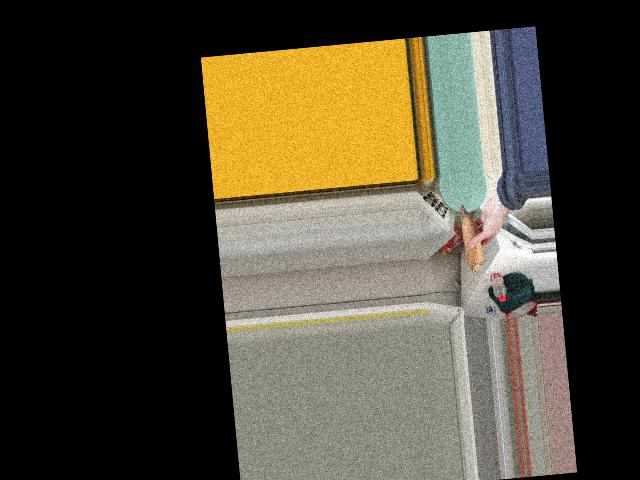sweet_potato: (460, 206, 485, 271)
